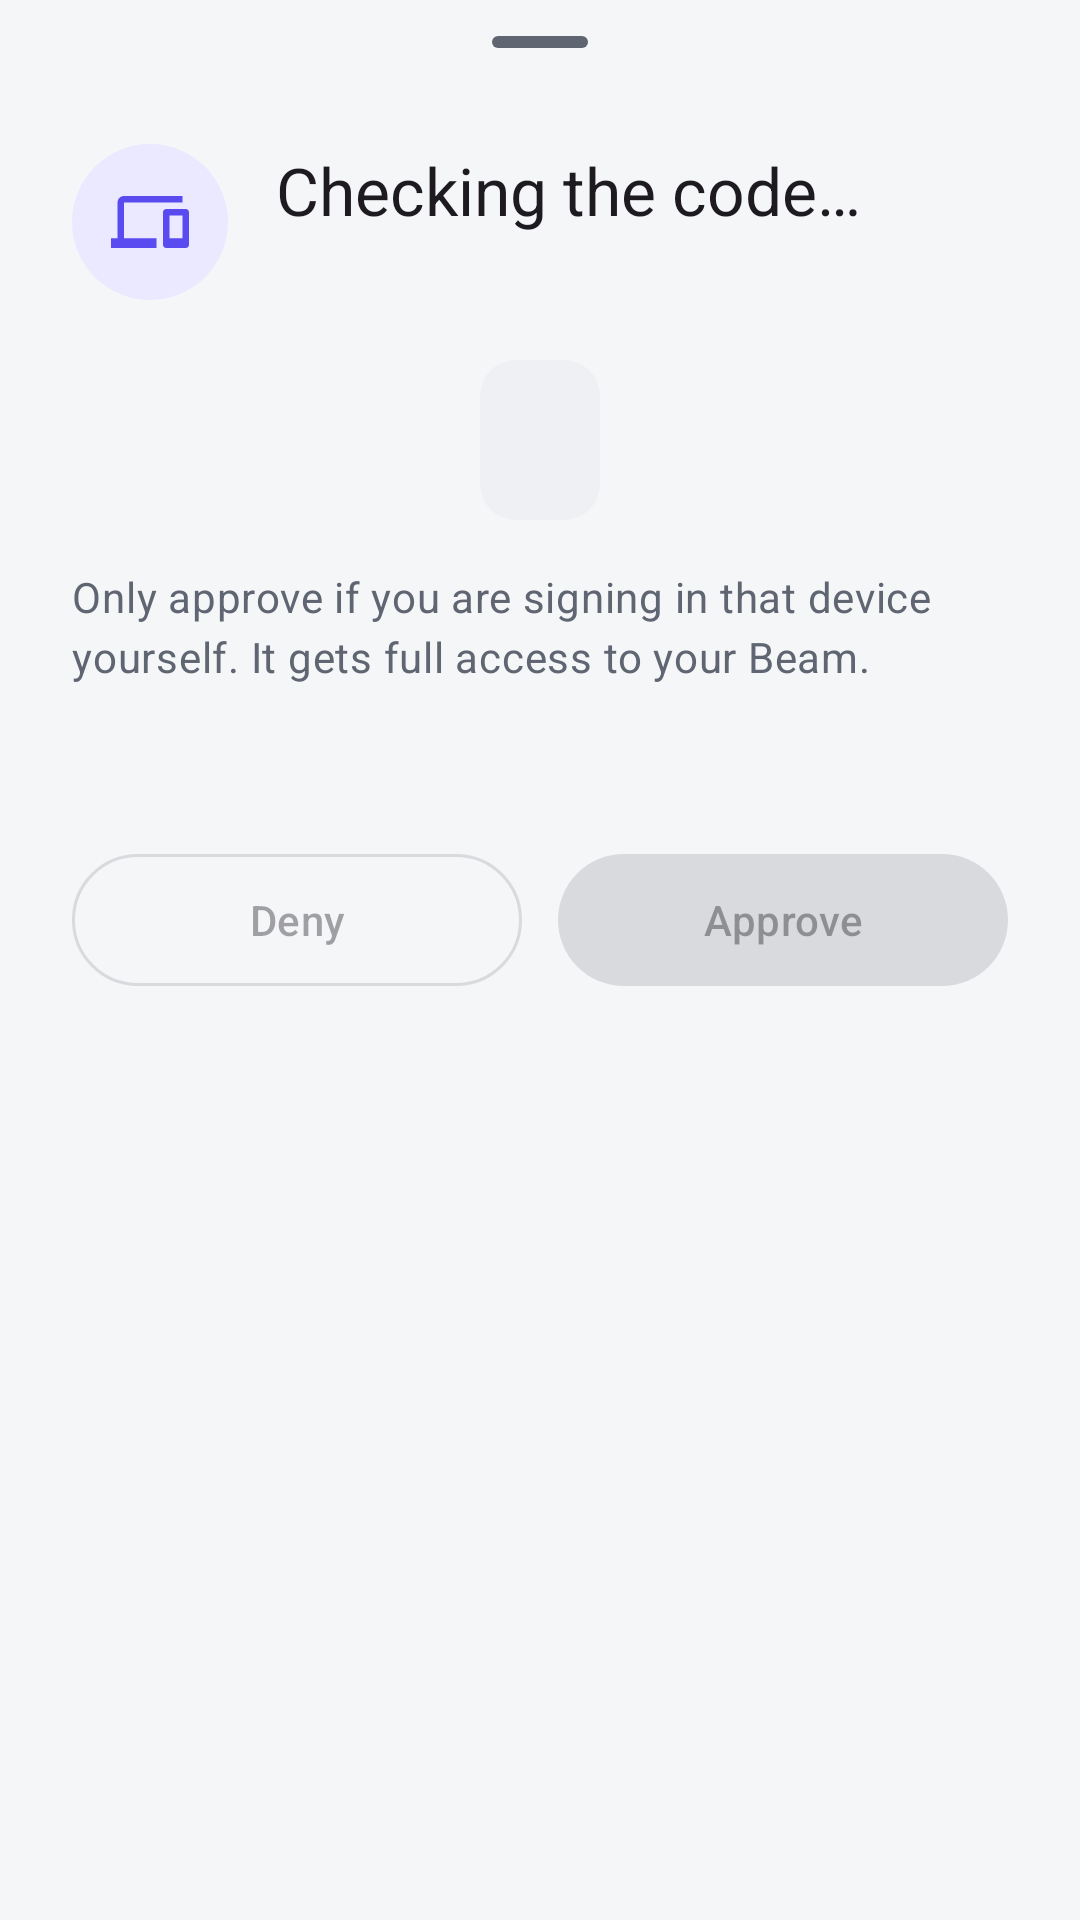

Point at icon controls on the screen. Image size 1080px x 1920px, points as (x,y).
devices: (150,222)
